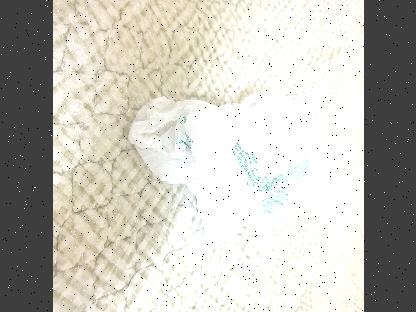Others: (127, 90, 320, 240)
